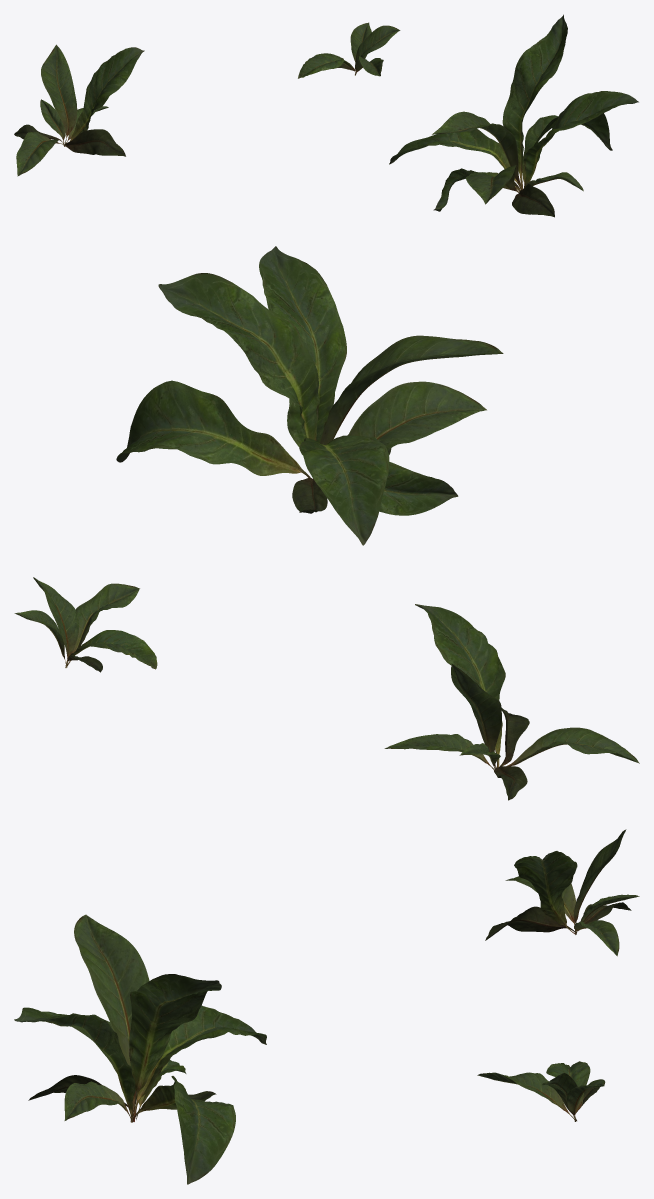
Rendered from anthurium.glb.
3 renders of one model, top to bottom at view 1: azimuth 30°, elevation 25°; view 2: azimuth 150°, elevation 25°; view 3: azimuth 270°, elevation 25°, orthographic. The views are drawn at different scales.
Parts seen in each view (by area): view 1: anthurium_botany_01_b, anthurium_botany_04_d, anthurium_botany_05_e; view 2: anthurium_botany_01_b, anthurium_botany_04_d, anthurium_botany_05_e; view 3: anthurium_botany_01_b, anthurium_botany_04_d, anthurium_botany_05_e.
Part boxes in pixels (bbox=[...]): anthurium_botany_01_b: bbox=[389, 14, 638, 217]; anthurium_botany_04_d: bbox=[14, 44, 144, 176]; anthurium_botany_05_e: bbox=[298, 22, 400, 78]; anthurium_botany_01_b: bbox=[116, 246, 503, 545]; anthurium_botany_04_d: bbox=[384, 604, 639, 800]; anthurium_botany_05_e: bbox=[14, 577, 157, 672]; anthurium_botany_01_b: bbox=[14, 914, 266, 1184]; anthurium_botany_04_d: bbox=[485, 829, 639, 956]; anthurium_botany_05_e: bbox=[477, 1061, 605, 1121].
Size of the model in its own units: 1.63 by 0.4717 by 1.41.
Materials: 1 (1 with a texture image).
